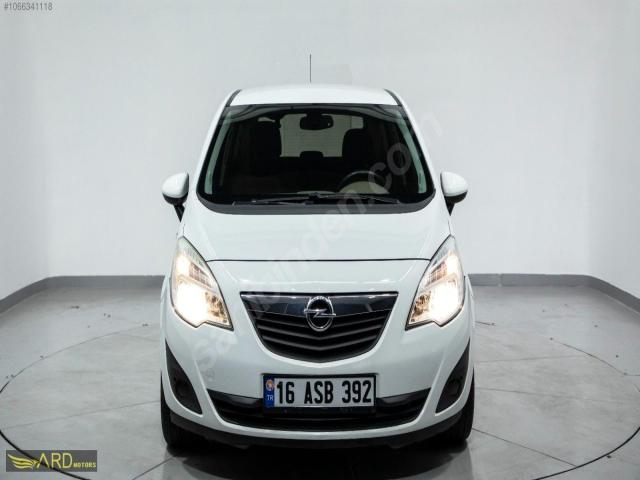plaka: (264, 375, 374, 408)
